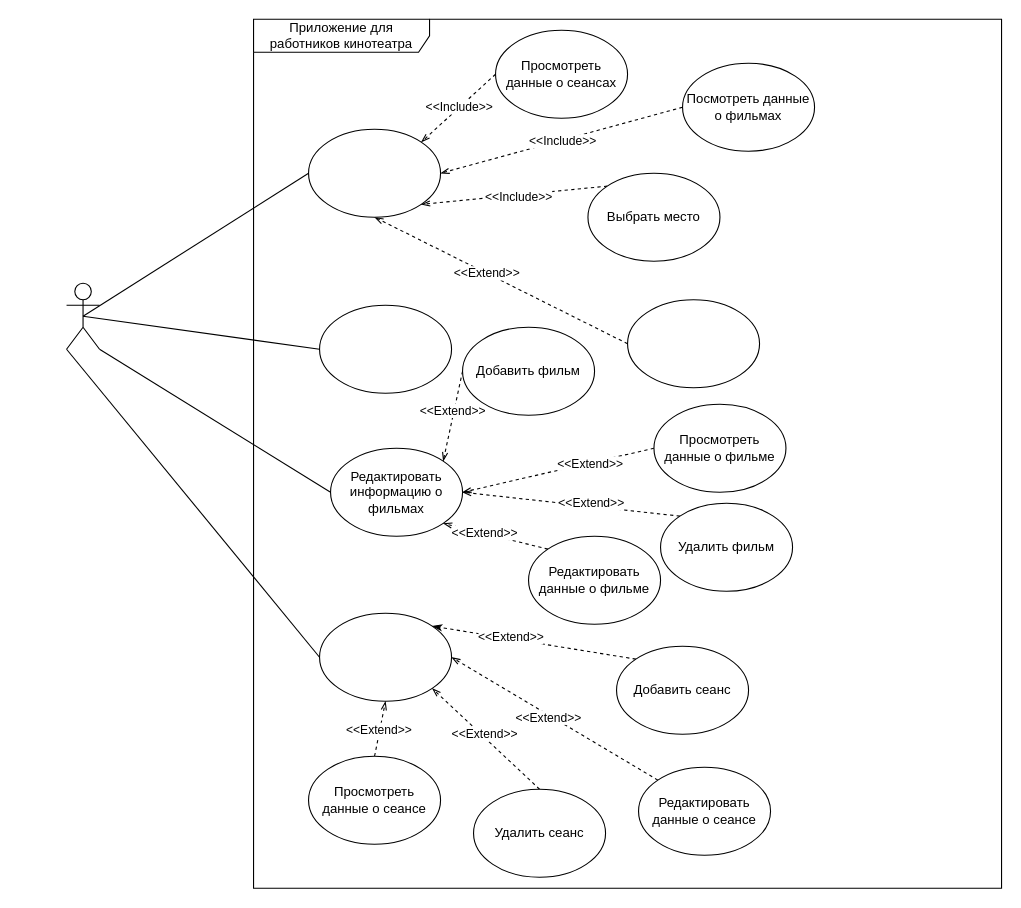
The diagram is 1021 pixels wide and 908 high, and some of its shapes have lost their labels. Each missing label, with the centre of its shape:
"Вернуть билет" goes at [385,348].
"продать билет" goes at [374,172].
"Работник кинотеатра" goes at [82,315].
"Редактировать информацию о сеансах" goes at [385,656].
"Сохранить имя покупателя" goes at [693,343].
